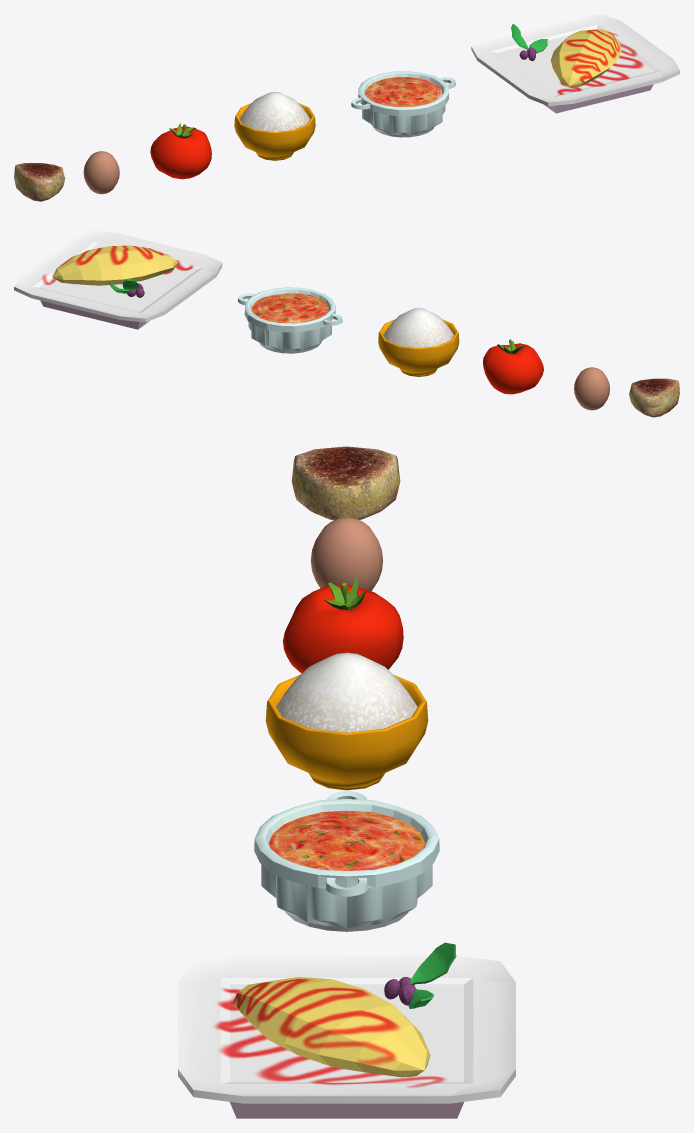
The model's file is food.fbx.
3 views of the same model, one above another, from view 1: azimuth 30°, elevation 25°; view 2: azimuth 150°, elevation 25°; view 3: azimuth 270°, elevation 25° (orthographic). The views are drawn at different scales.
Visible parts, largest first — view 1: polySurface11, polySurface5, pCylinder2, group3, pCylinder3, pSphere2; view 2: polySurface11, polySurface5, pCylinder2, group3, pCylinder3, pSphere2; view 3: polySurface11, polySurface5, pCylinder2, group3, pCylinder3, pSphere2.
Part boxes in pixels (x1,y1,x2,y2): polySurface11: (471, 14, 679, 113); polySurface5: (351, 71, 456, 137); pCylinder2: (234, 92, 315, 160); group3: (150, 123, 211, 179); pCylinder3: (14, 163, 65, 201); pSphere2: (83, 151, 119, 194); polySurface11: (14, 230, 222, 329); polySurface5: (237, 287, 342, 353); pCylinder2: (378, 308, 459, 376); group3: (483, 339, 543, 394); pCylinder3: (629, 378, 679, 417); pSphere2: (574, 367, 609, 410); polySurface11: (178, 942, 515, 1118); polySurface5: (254, 791, 439, 931); pCylinder2: (265, 652, 428, 790); group3: (283, 577, 403, 673); pCylinder3: (291, 446, 400, 520); pSphere2: (310, 517, 383, 591).
Size of the model in its own units: 30.86 by 2.91 by 7.21.
